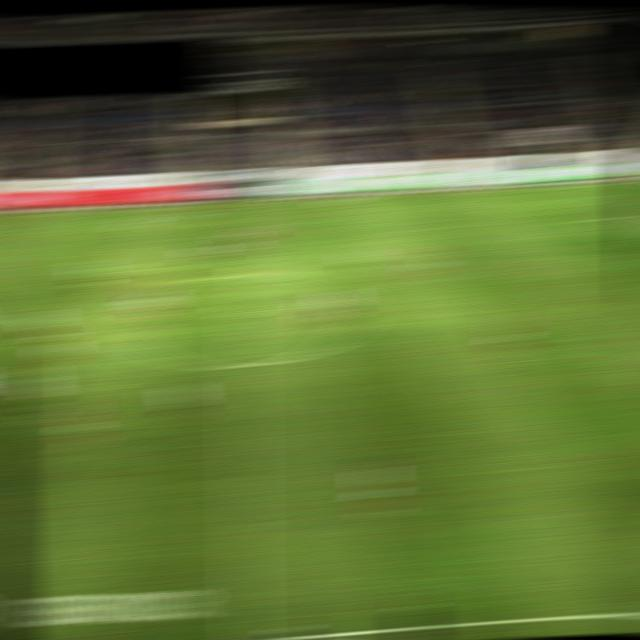bigarea_top_inner: (580, 212, 612, 224)
halfcircle_bottom: (226, 359, 260, 372)
halfcircle_top: (225, 267, 260, 282)
midline_bottom_intersection: (226, 632, 267, 640)
midline_top_intersection: (224, 198, 257, 210)
